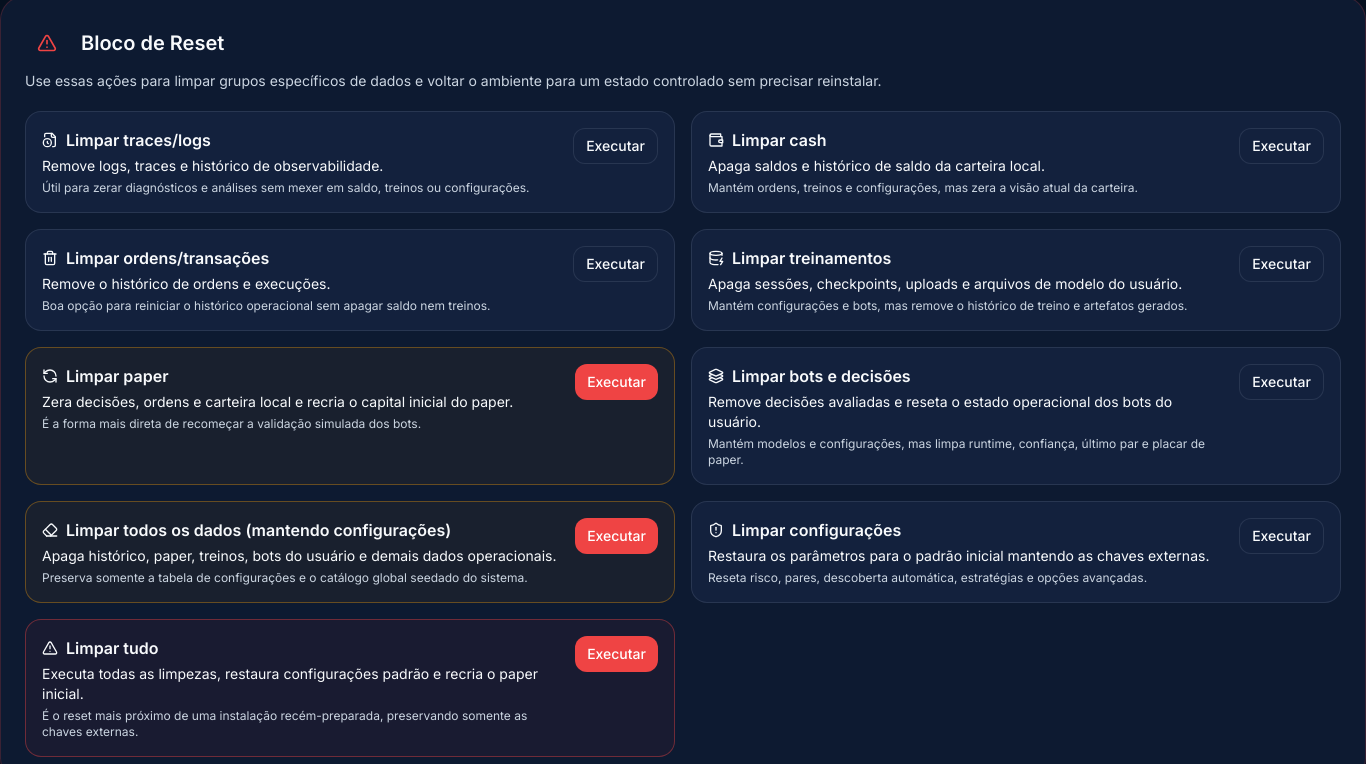
ResetOperationsCard › confirms and executes a reset action, then renders the result summary
Click the button "Executar" in the row of "Limpar traces/logs" at (616, 146), box [573,128,658,164]
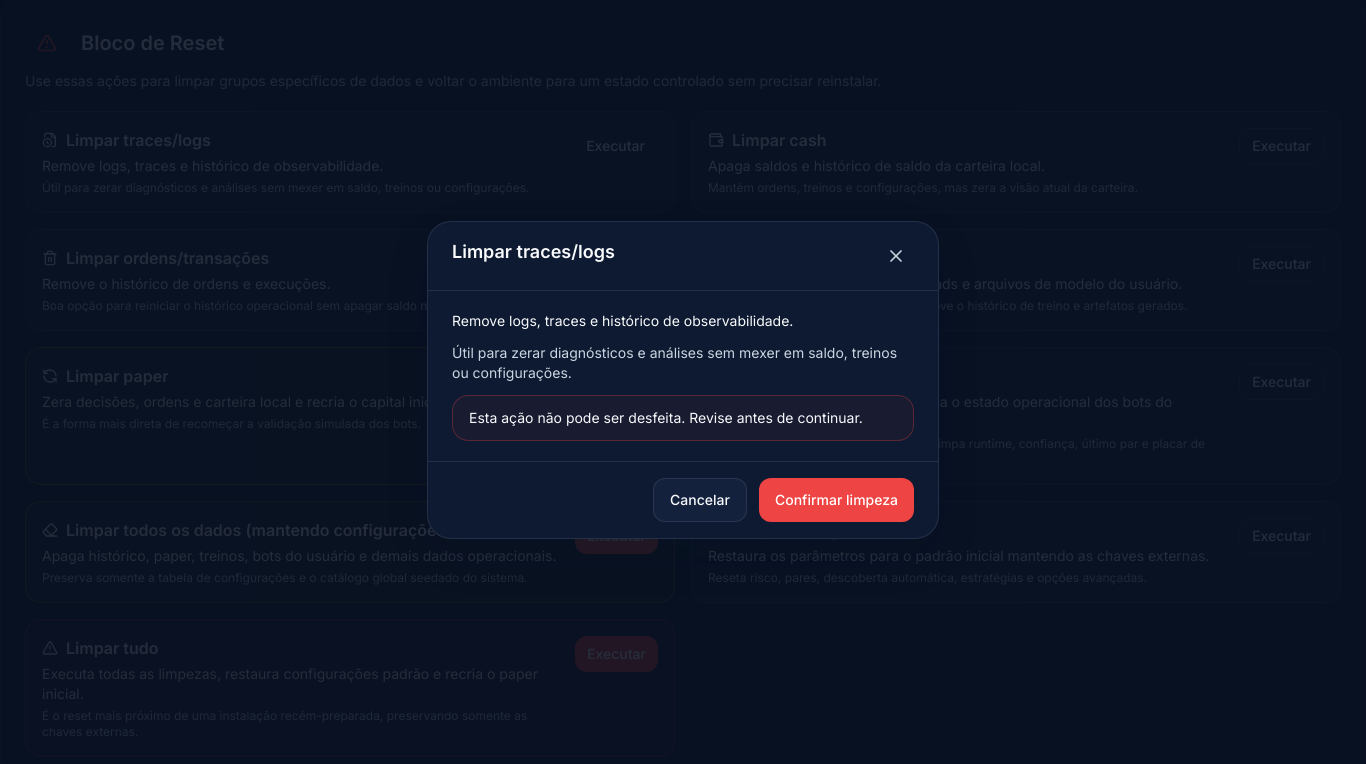
Now the text "Esta ação não pode ser desfeita. Revise antes de continuar." is shown, box [452,395,914,441]
Click the button "Confirmar limpeza" at (836, 500), box [759,478,914,522]
(page scrolled)
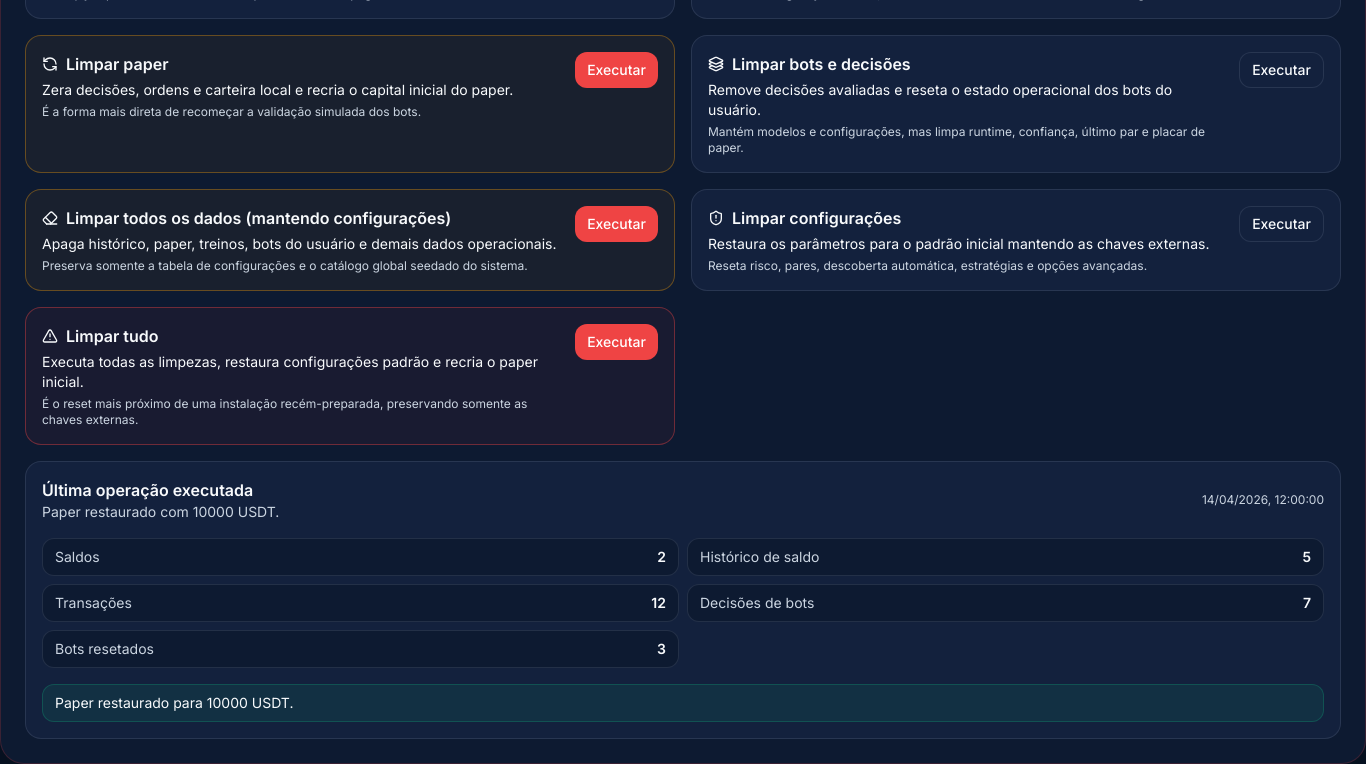
Now the heading "Última operação executada" is shown, box [42,478,279,502]
Now the text "Paper restaurado com 10000 USDT." is shown, box [42,502,279,522]
Now the text "Histórico de saldo" is shown, box [700,547,819,567]
